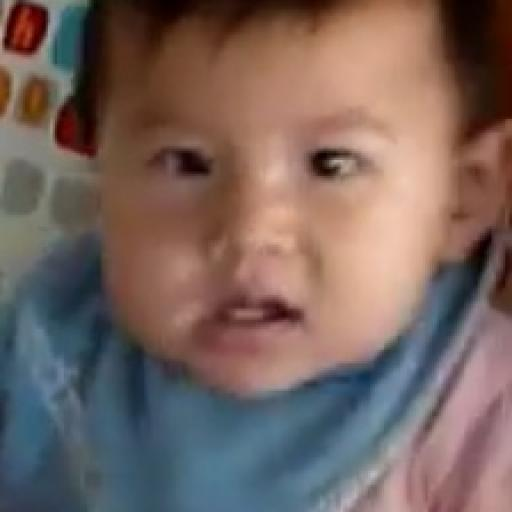Autism: (71, 0, 512, 512)
